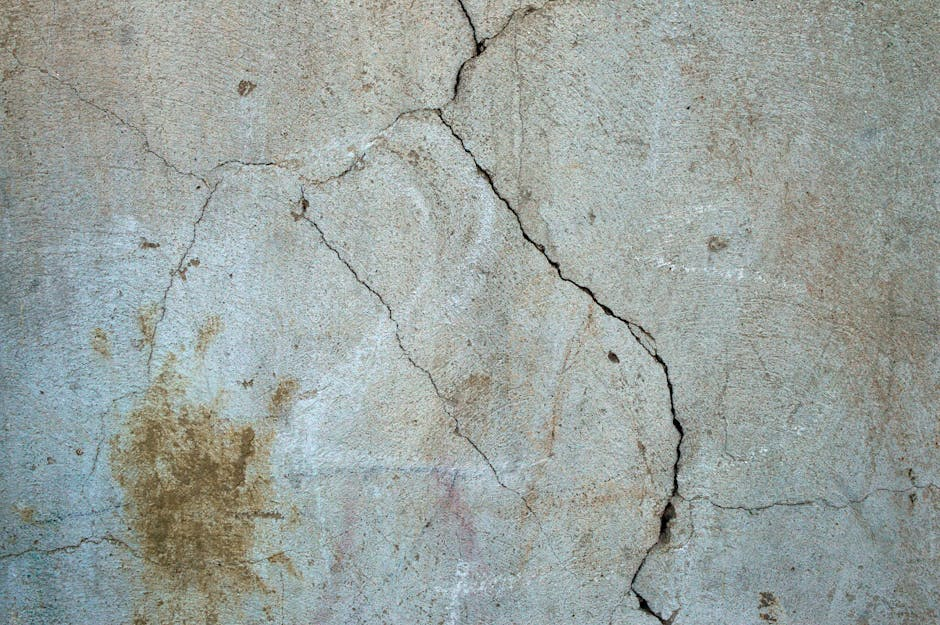细微裂纹: (520, 217, 717, 618), (296, 204, 486, 489), (693, 480, 845, 524)
